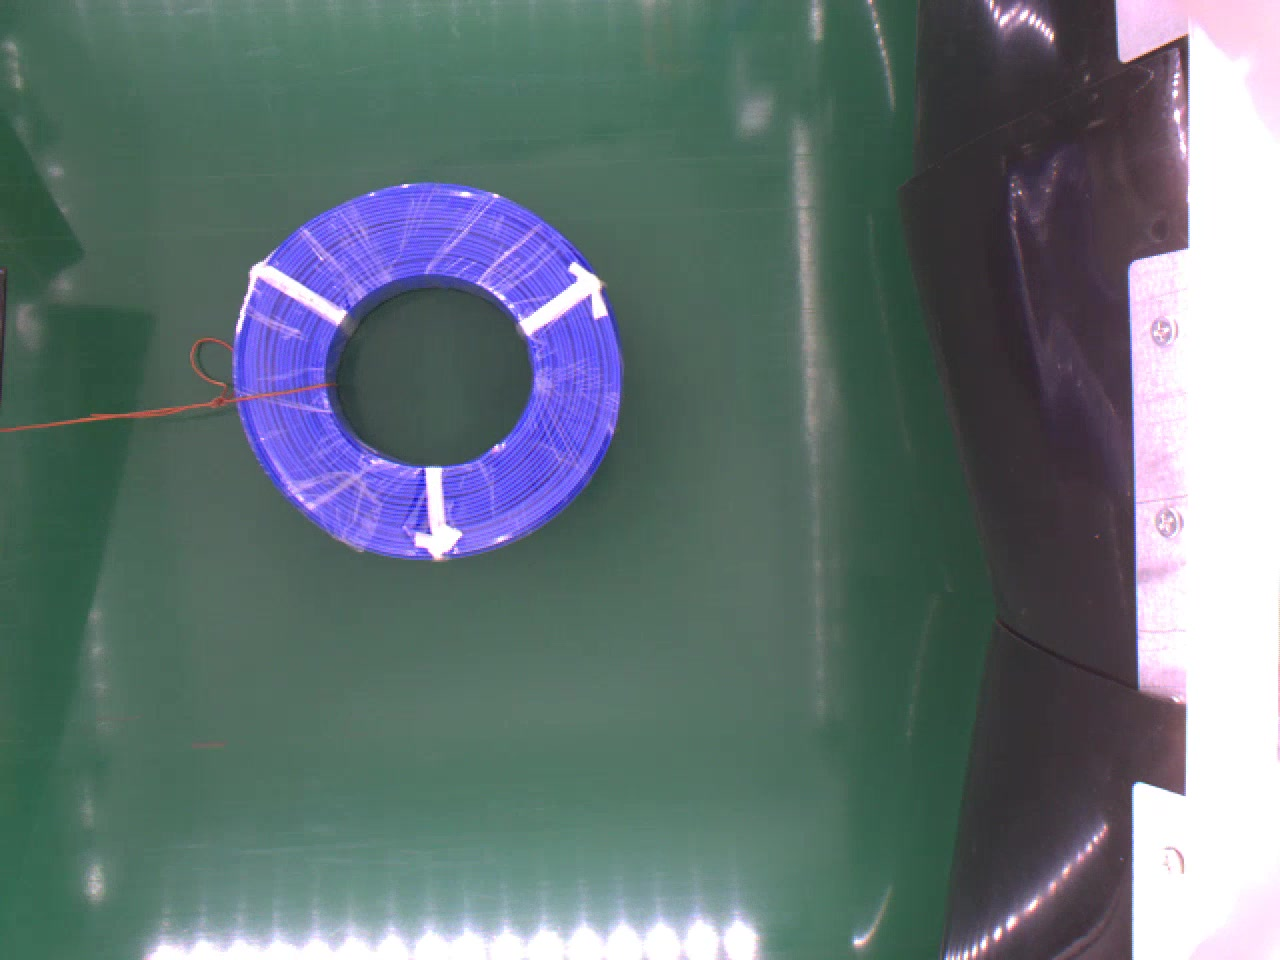blue: (221, 181, 621, 567)
